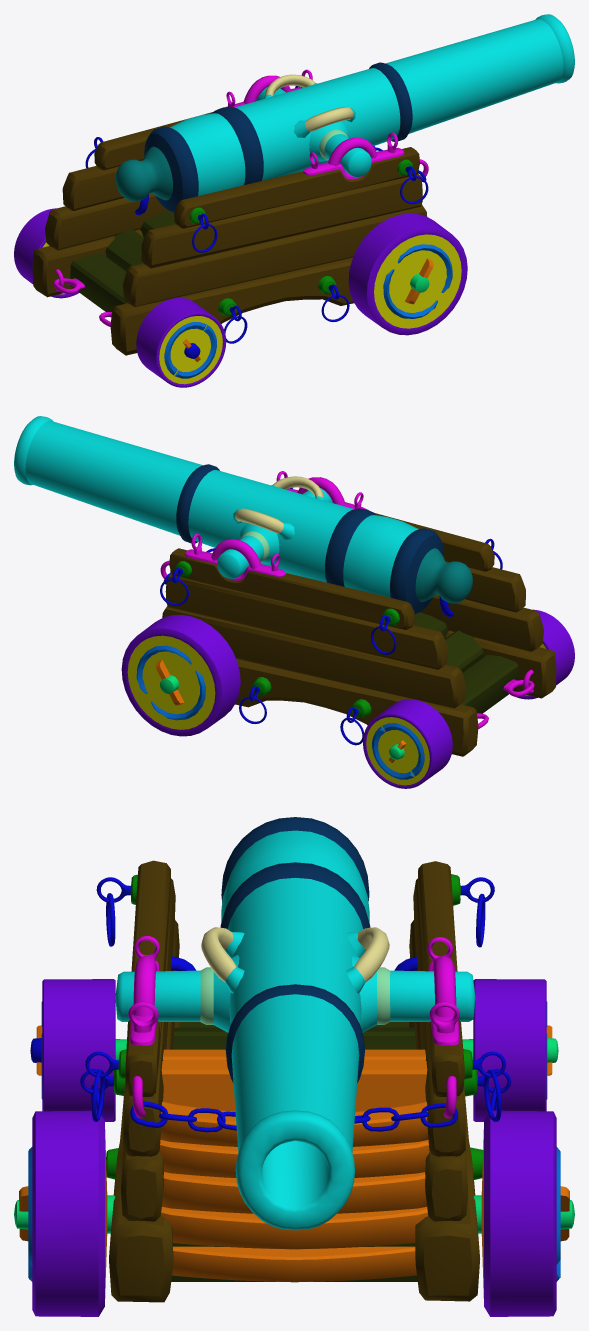
3 views of the same model, one above another, from view 1: azimuth 30°, elevation 25°; view 2: azimuth 150°, elevation 25°; view 3: azimuth 270°, elevation 25° (orthographic). The views are drawn at different scales.
Parts seen in each view (by area): view 1: cannon_Baked; view 2: cannon_Baked; view 3: cannon_Baked.
Boxes of the visible parts, left/top/right/bottom form: cannon_Baked: left=14, top=14, right=574, bottom=387; cannon_Baked: left=14, top=416, right=574, bottom=788; cannon_Baked: left=14, top=817, right=574, bottom=1316.
Size of the model in its own units: 200 by 83.24 by 113.
